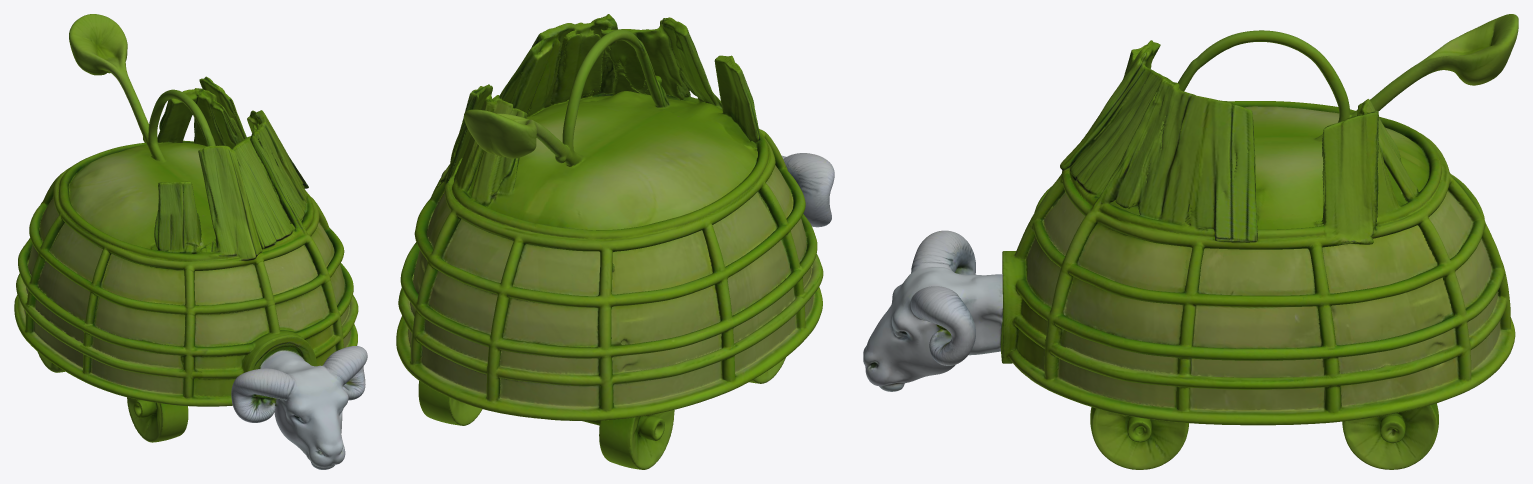
The model's file is Green-RamTower-figure.glb.
3 renders of one model, left to right at view 1: azimuth 30°, elevation 25°; view 2: azimuth 150°, elevation 25°; view 3: azimuth 270°, elevation 25°, orthographic. The views are drawn at different scales.
Visible parts, largest first — view 1: tripo_node_e0f87a98-9fb4-4499-8e1a-2b61c6875a4e; view 2: tripo_node_e0f87a98-9fb4-4499-8e1a-2b61c6875a4e; view 3: tripo_node_e0f87a98-9fb4-4499-8e1a-2b61c6875a4e.
Boxes of the visible parts, <box> form: tripo_node_e0f87a98-9fb4-4499-8e1a-2b61c6875a4e: <box>14,14,367,469</box>; tripo_node_e0f87a98-9fb4-4499-8e1a-2b61c6875a4e: <box>396,14,834,469</box>; tripo_node_e0f87a98-9fb4-4499-8e1a-2b61c6875a4e: <box>863,14,1518,469</box>.
Size of the model in its own units: 0.6365 by 0.6692 by 1.
1 material, 1 textured.
